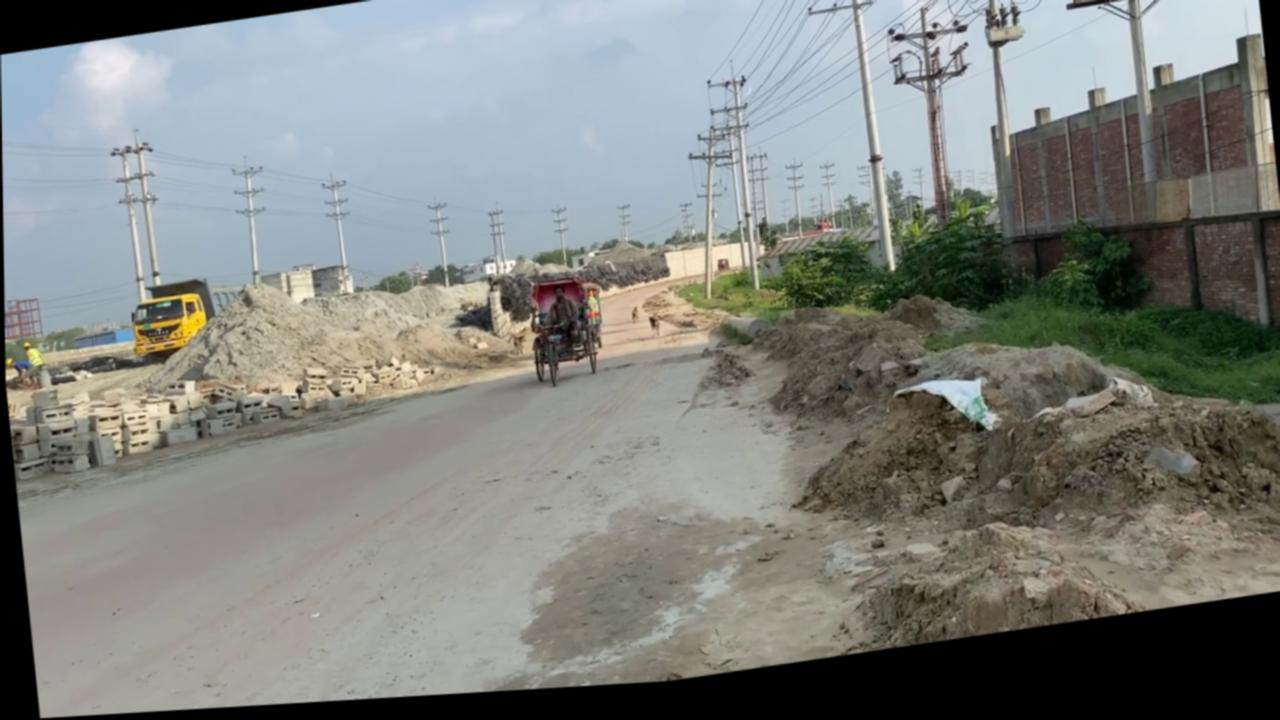Dog: (646, 320, 660, 346), (628, 313, 637, 331)
Garbage: (772, 250, 1274, 658), (889, 381, 999, 456)
Pole: (129, 127, 165, 289)
Railroad-crossing: (523, 279, 605, 396)
Tree: (125, 273, 247, 367)
